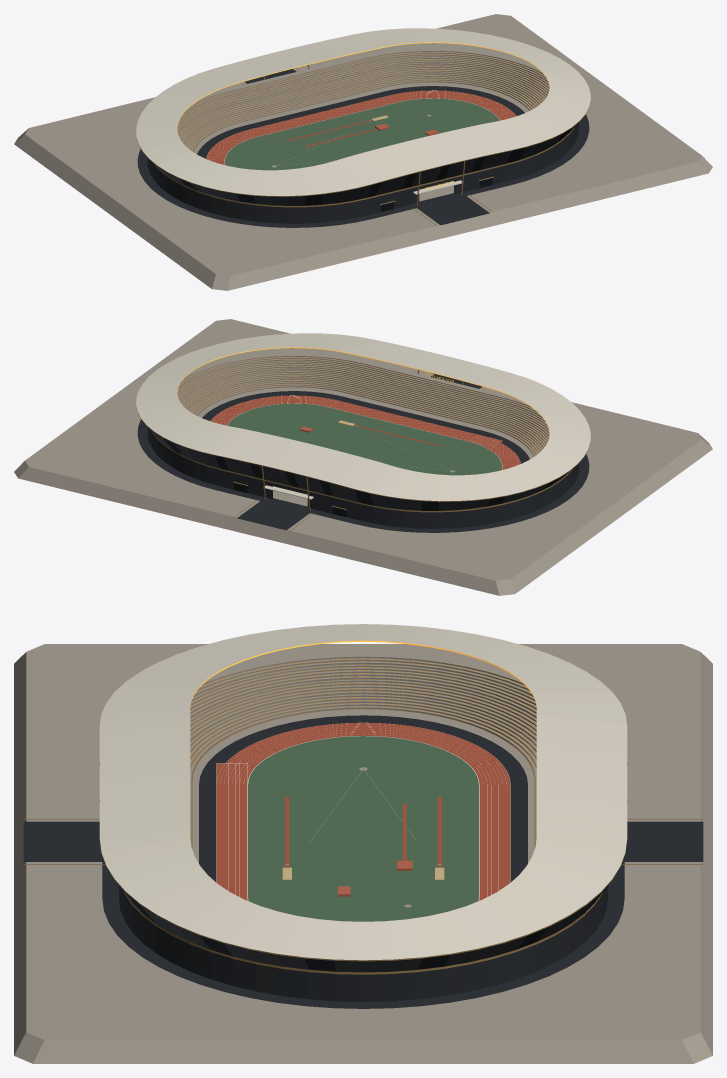
File: dog-athletics-base.glb
3 views of the same model, one above another, from view 1: azimuth 30°, elevation 25°; view 2: azimuth 150°, elevation 25°; view 3: azimuth 270°, elevation 25° (orthographic). The views are drawn at different scales.
Visible parts, largest first — view 1: ATHLETICS_BASE; view 2: ATHLETICS_BASE; view 3: ATHLETICS_BASE.
Boxes of the visible parts, <box> form: ATHLETICS_BASE: <box>14,14,712,290</box>; ATHLETICS_BASE: <box>14,319,712,595</box>; ATHLETICS_BASE: <box>14,624,712,1063</box>.
Size of the model in its own units: 304 by 31.5 by 220.
